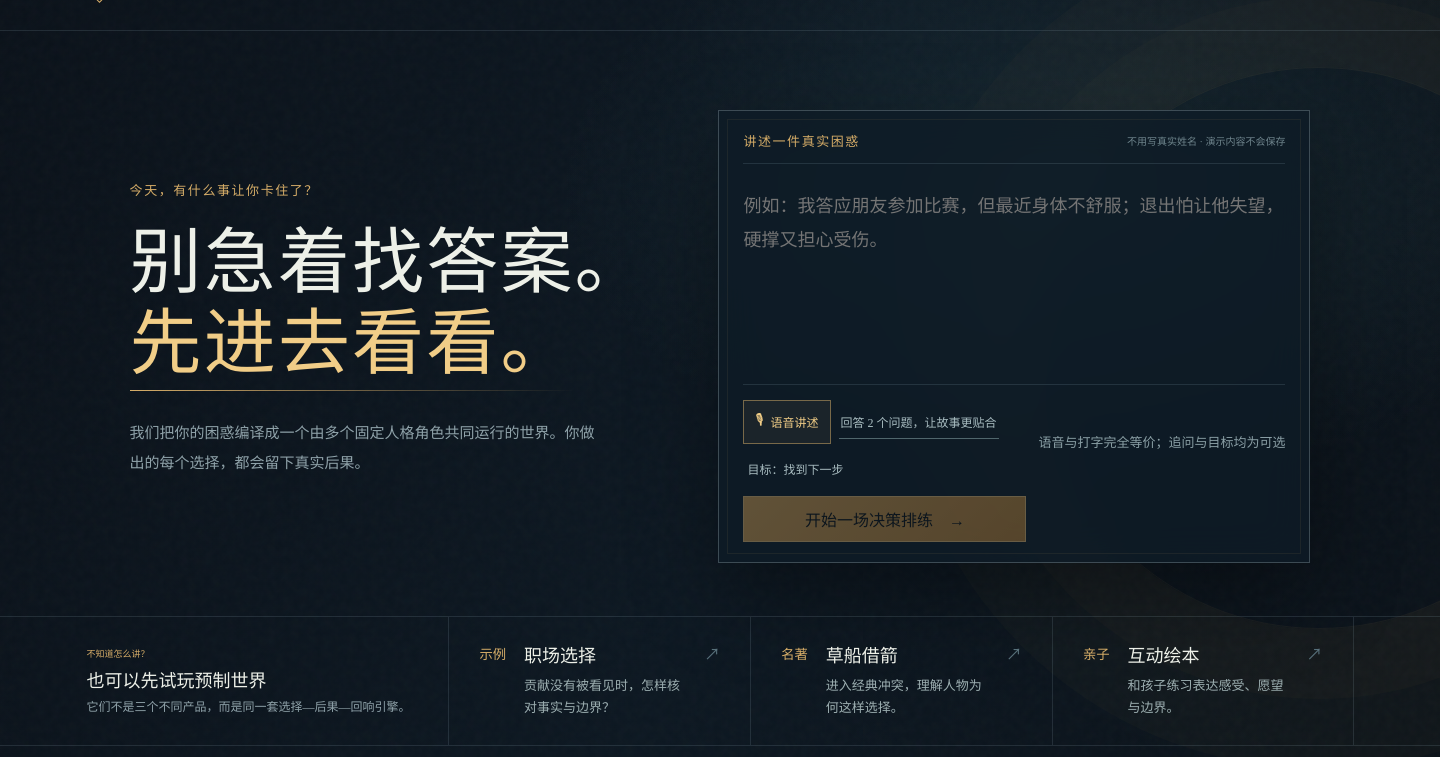
Test: additional content packs › opens the content library from the classic route card
Click the button "名著 草船借箭 进入经典冲突，理解人物为何这样选择。 ↗" at (901, 681), box [750,617,1052,745]
(page scrolled)
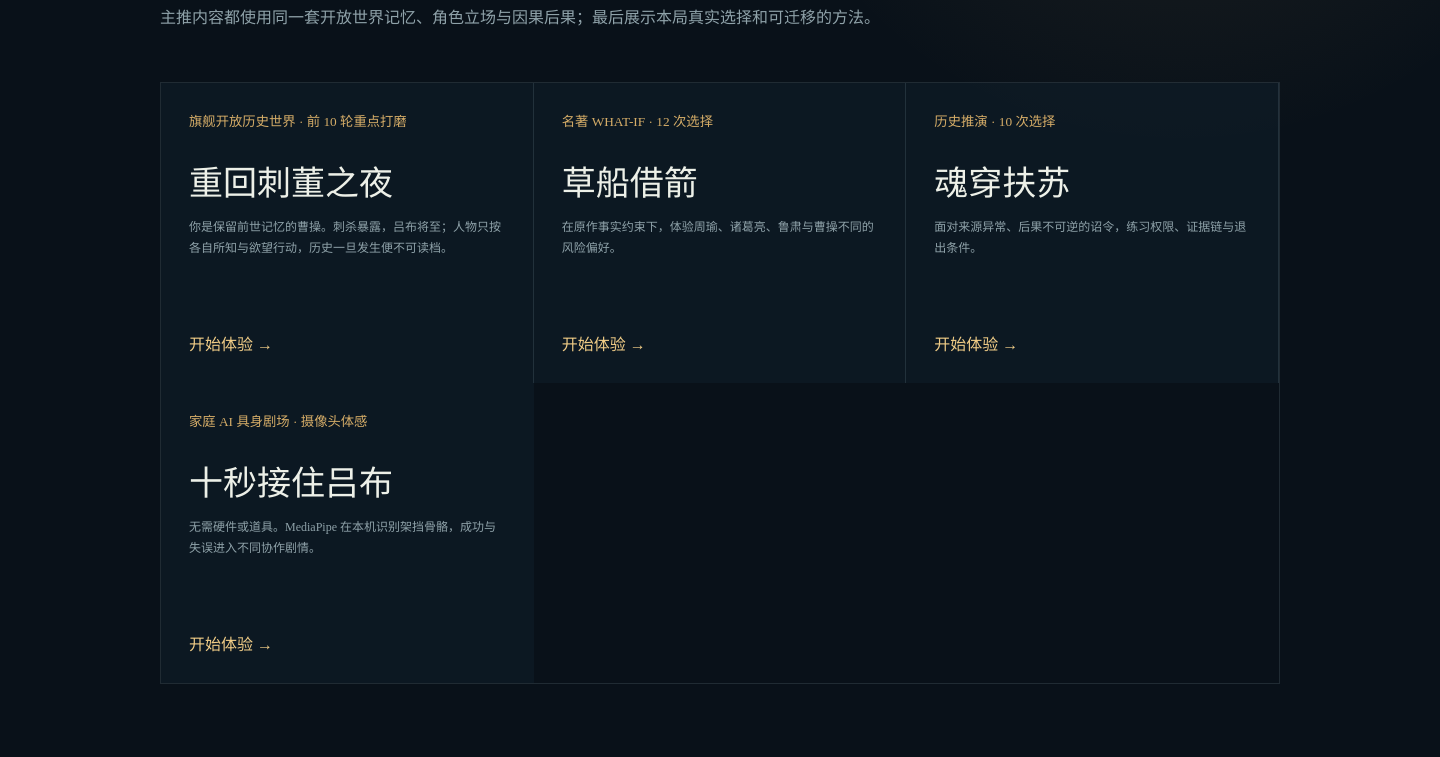
Expected: the button "历史推演 · 10 次选择 魂穿扶苏 面对来源异常、后果不可逆的诏令，练习权限、证据链与退出条件。 开始体验 →" is shown, [906,83,1279,383]
Expected: the button "十秒接住吕布" is shown, [161,383,534,683]
